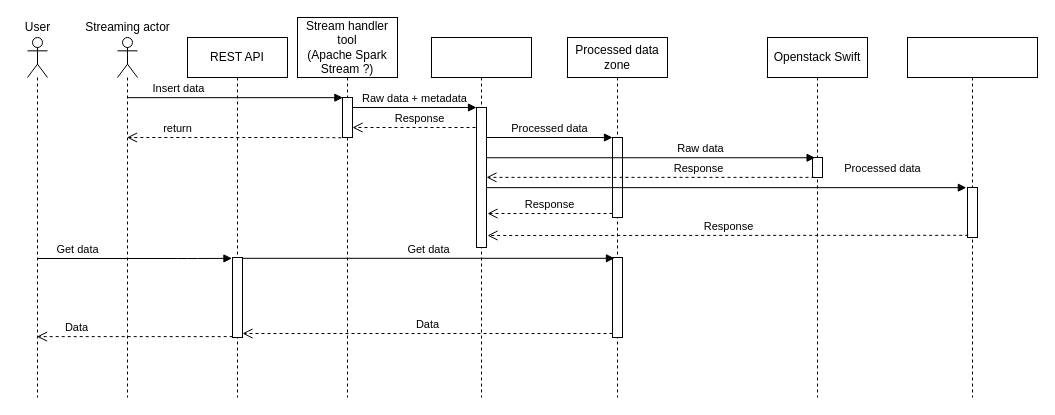
Image size: 1055x415. Some labels were removed from this diagram. The shapes that lost their labels are listed below. From the top down, each one's centre as x and y in pixels, then its label:
At point 481,217: "Apache Spark".
At point 972,217: "Metadata management system".
